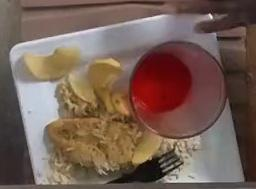fries: (24, 47, 128, 118), (132, 130, 163, 166)
pork: (47, 117, 142, 175)
